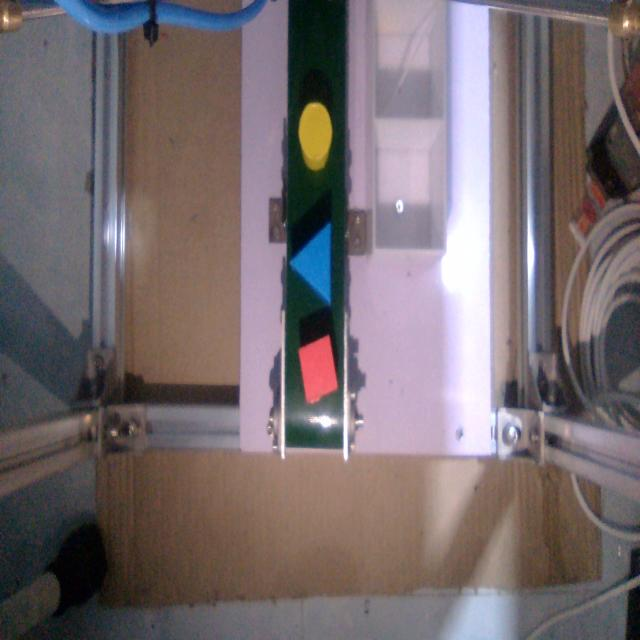BlueTri: (289, 216, 340, 306)
RedRec: (294, 329, 340, 413)
YelCir: (296, 95, 334, 177)
